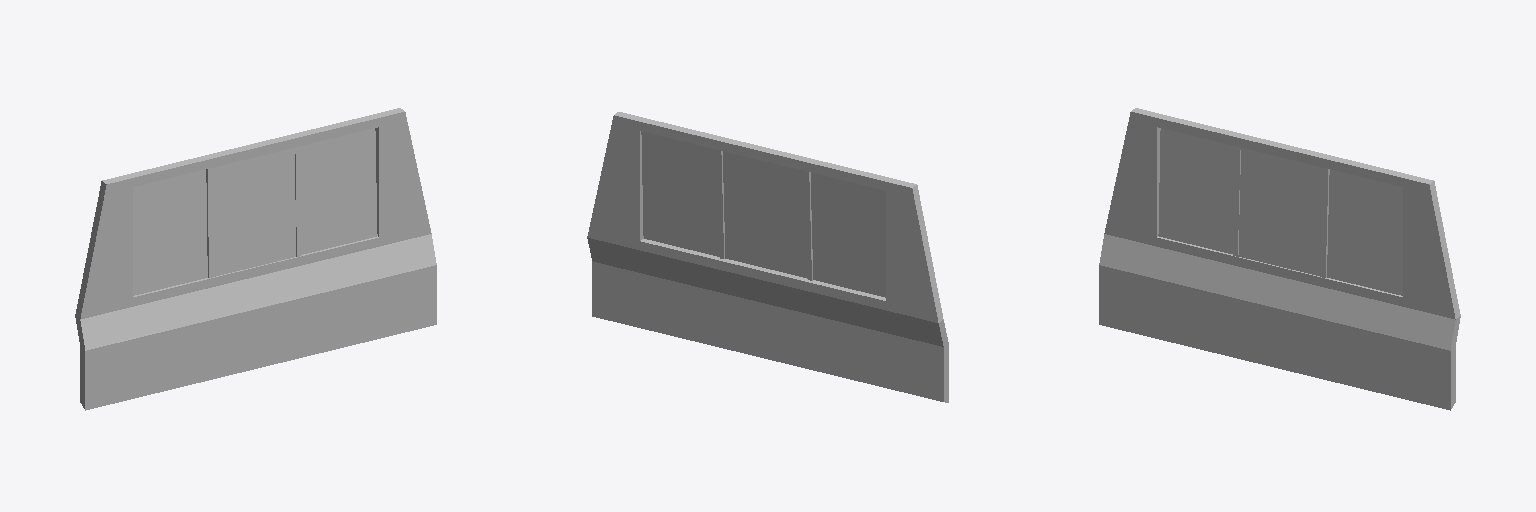
File: sporttrack_hardtop_backwall.obj
3 renders of one model, left to right at view 1: azimuth 30°, elevation 25°; view 2: azimuth 150°, elevation 25°; view 3: azimuth 330°, elevation 25°, orthographic.
Visible parts, largest first — view 1: $DoorBack_Bottom_Alternate, $DoorBack_Top, $Window_Back_Middle, $Window_Back_Left, $Window_Back_Right, $Window_Back, $GlassFrame; view 2: $DoorBack_Bottom_Alternate, $DoorBack_Top, $Window_Back, $Window_Back_Left, $Window_Back_Right, $GlassFrame; view 3: $DoorBack_Bottom_Alternate, $DoorBack_Top, $Window_Back_Middle, $Window_Back, $Window_Back_Left, $Window_Back_Right, $GlassFrame.
Boxes of the visible parts, box(x1,y1,x2,y2) form: $DoorBack_Bottom_Alternate: box(75, 234, 436, 410); $DoorBack_Top: box(75, 108, 431, 319); $Window_Back_Middle: box(212, 148, 295, 276); $Window_Back_Left: box(300, 128, 377, 254); $Window_Back_Right: box(133, 169, 207, 295); $Window_Back: box(133, 129, 376, 295); $GlassFrame: box(206, 147, 300, 278); $DoorBack_Bottom_Alternate: box(587, 238, 948, 402); $DoorBack_Top: box(587, 112, 943, 322); $Window_Back: box(641, 131, 885, 295); $Window_Back_Left: box(641, 131, 719, 256); $Window_Back_Right: box(811, 174, 885, 297); $GlassFrame: box(717, 150, 812, 280); $DoorBack_Bottom_Alternate: box(1099, 234, 1460, 410); $DoorBack_Top: box(1104, 108, 1460, 319); $Window_Back_Middle: box(1238, 148, 1323, 276); $Window_Back: box(1158, 128, 1402, 294); $Window_Back_Left: box(1327, 169, 1402, 295); $Window_Back_Right: box(1159, 128, 1235, 253); $GlassFrame: box(1233, 147, 1329, 277).
Size of the model in its own units: 2.5 by 1.47 by 0.125.